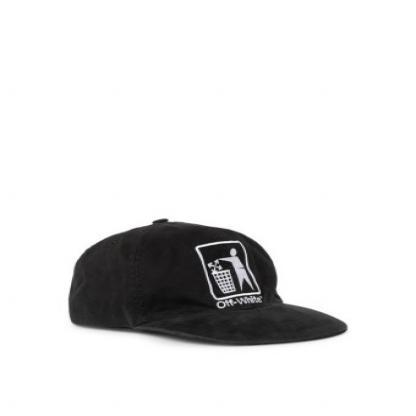cap: (57, 211, 358, 354)
